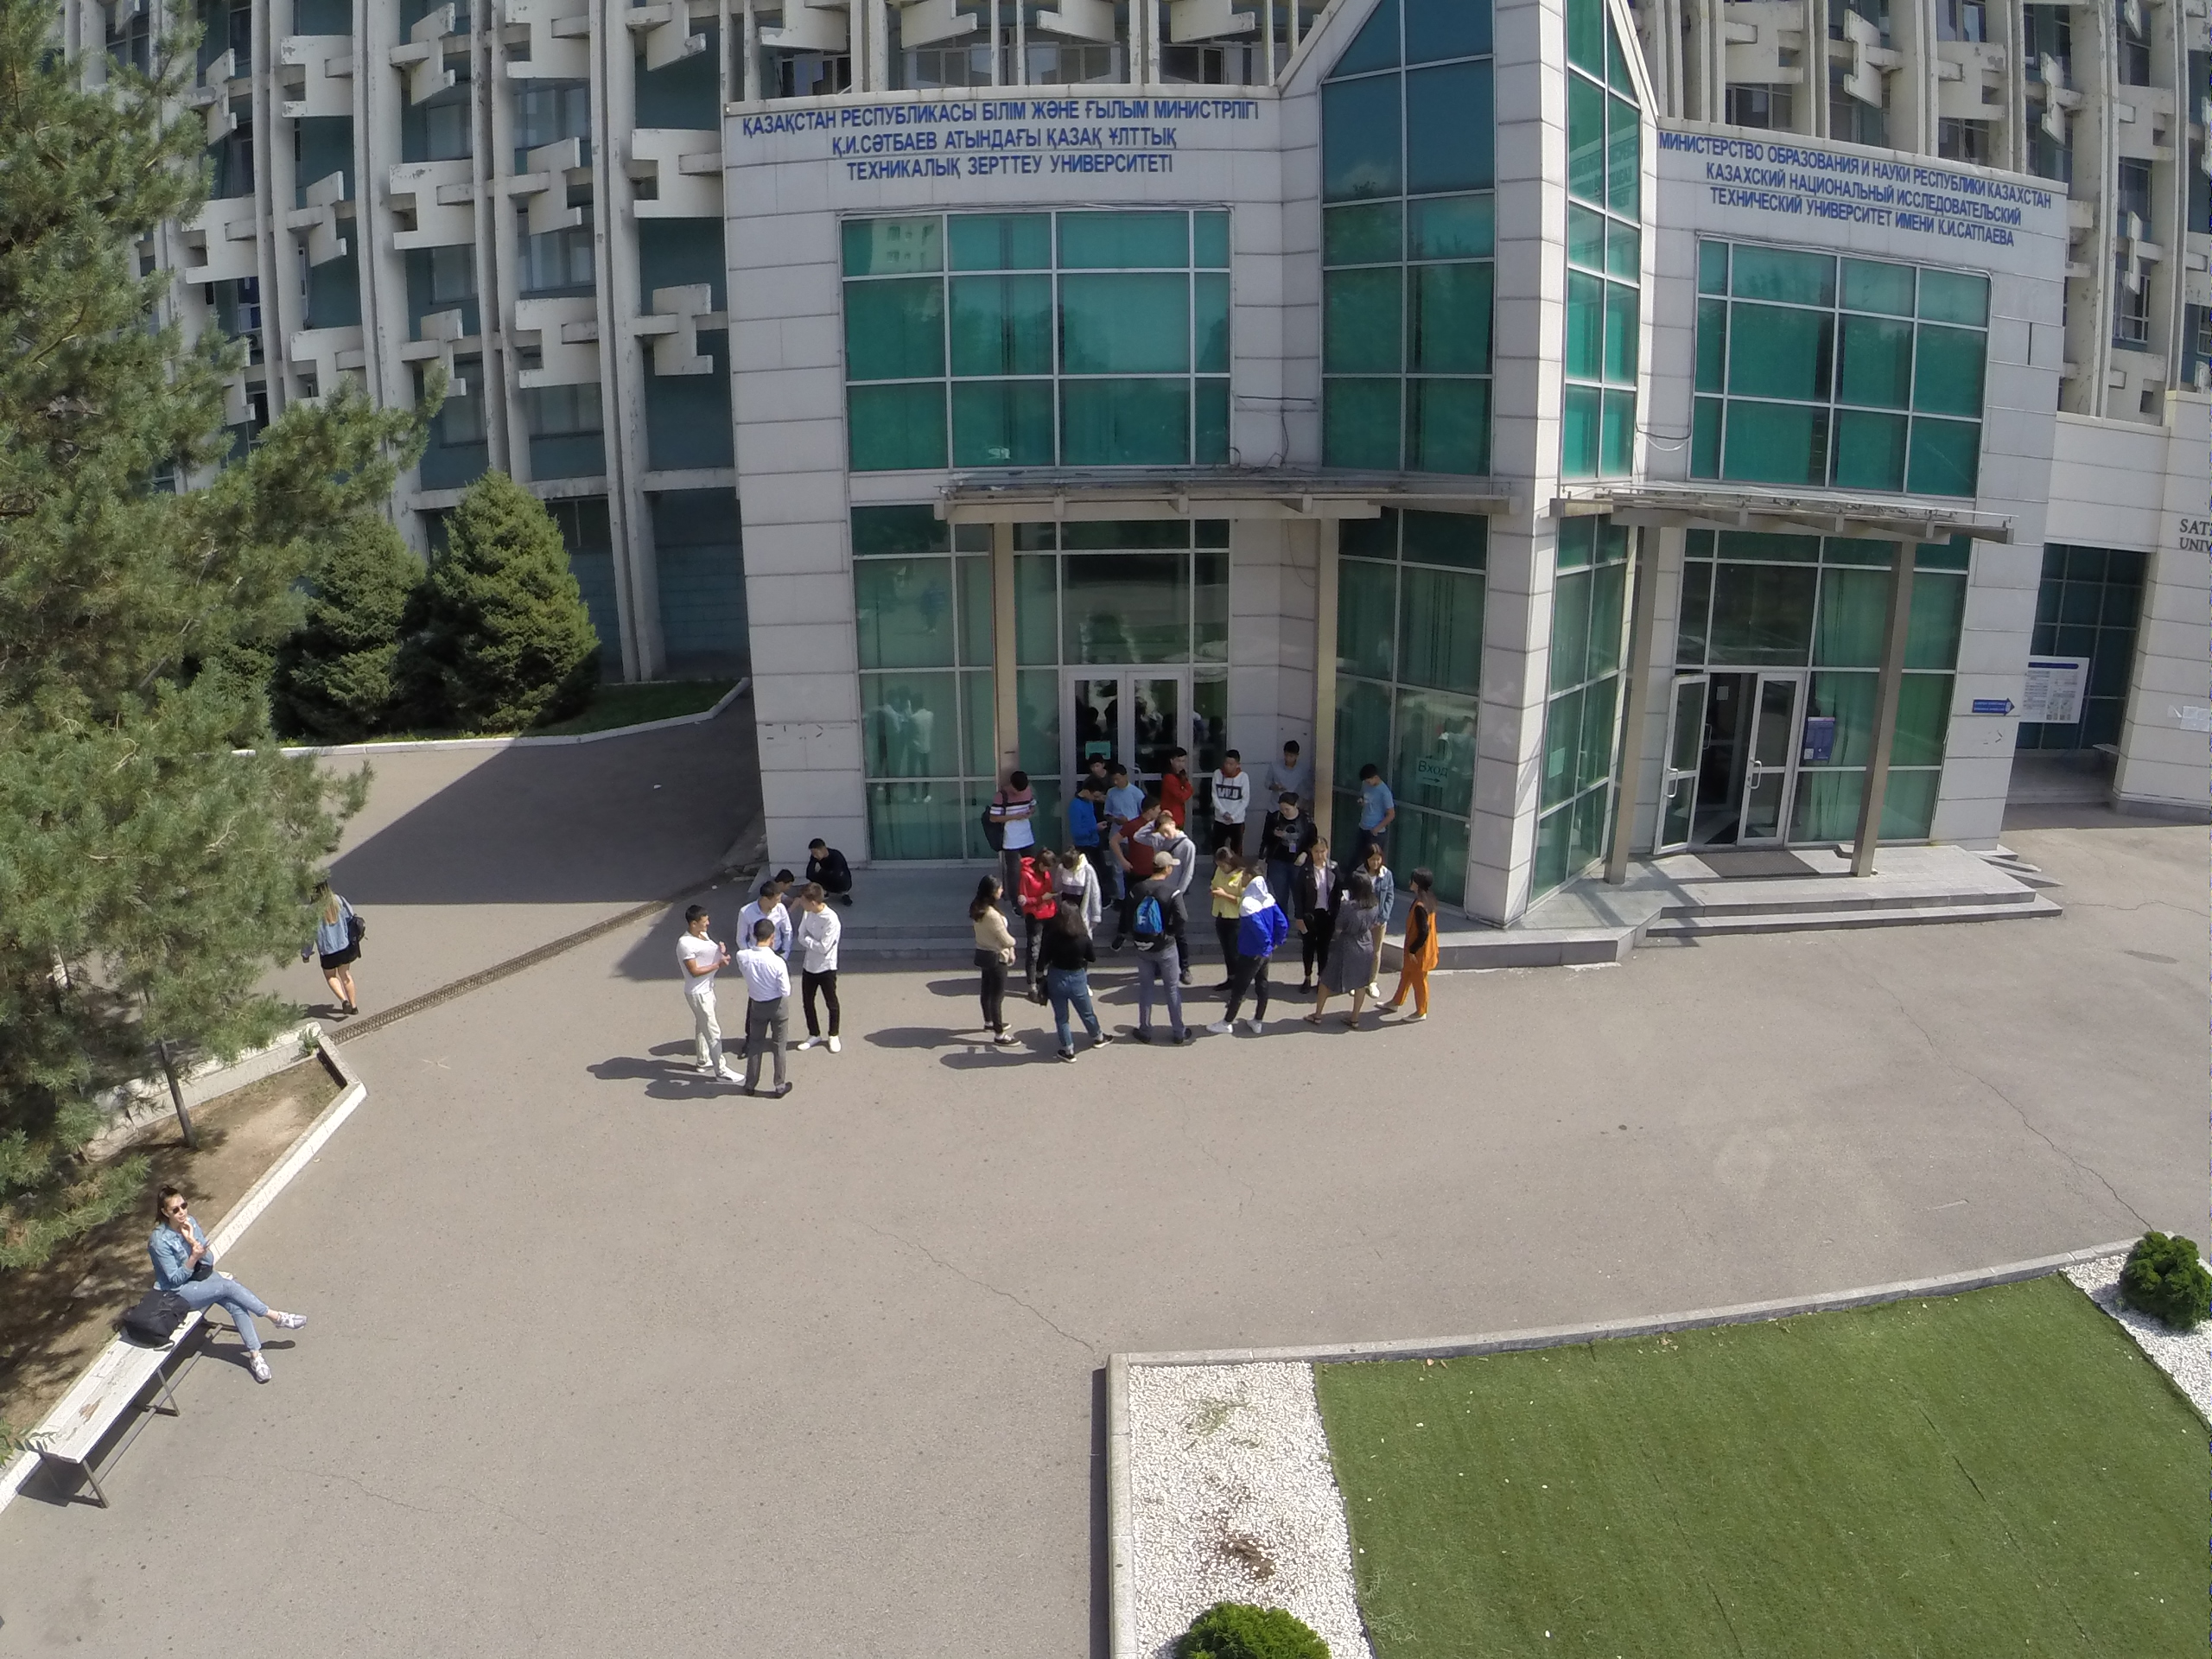person: (153, 1179, 300, 1395), (1205, 862, 1290, 1042), (1129, 847, 1197, 1057), (1033, 887, 1112, 1066), (674, 898, 742, 1095), (736, 912, 800, 1099), (1381, 866, 1442, 1031), (791, 879, 843, 1058), (310, 872, 364, 1025), (1289, 831, 1339, 995), (972, 872, 1018, 1047), (1331, 874, 1368, 1032), (1015, 839, 1046, 996), (986, 764, 1033, 868), (1205, 743, 1251, 845), (803, 829, 855, 902), (1206, 842, 1235, 977), (1354, 771, 1396, 853), (1260, 790, 1307, 861), (1050, 842, 1093, 916), (1065, 765, 1103, 846), (1160, 744, 1192, 833), (737, 879, 782, 931), (1153, 810, 1187, 873), (1269, 737, 1307, 792)
